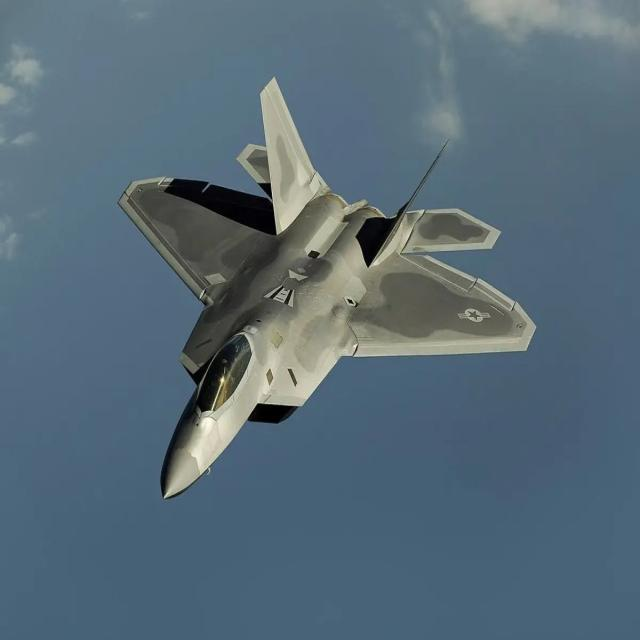F22: (94, 52, 554, 523)
